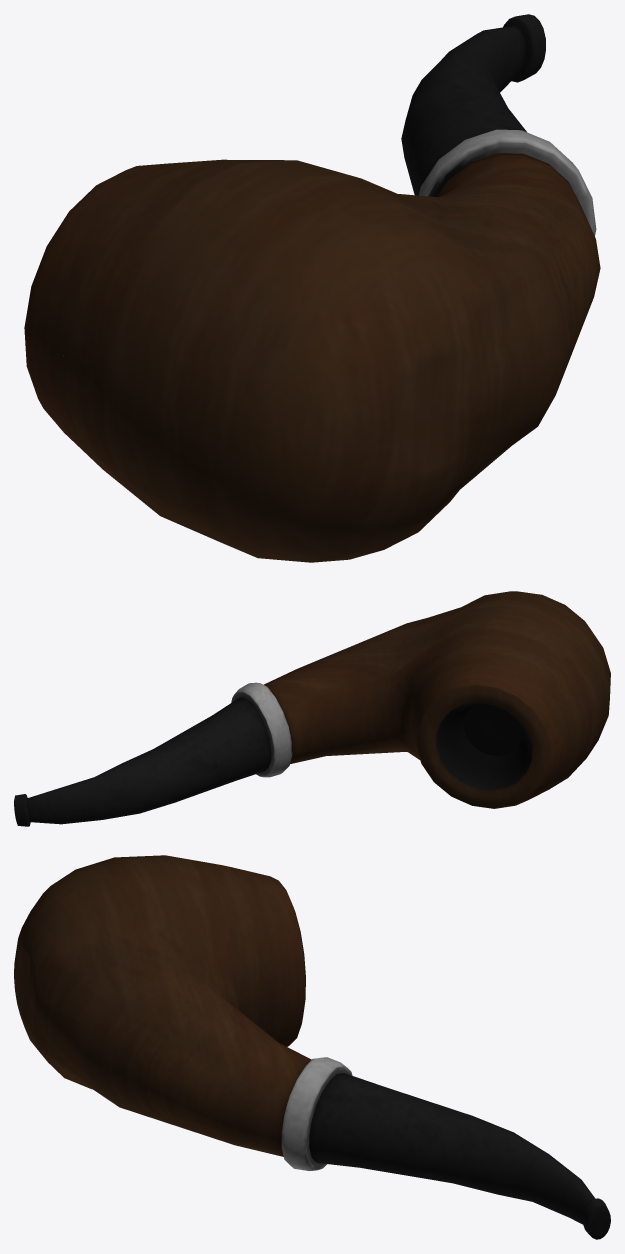
Rendered from SmokingPipe.glb.
3 renders of one model, top to bottom at view 1: azimuth 30°, elevation 25°; view 2: azimuth 150°, elevation 25°; view 3: azimuth 270°, elevation 25°, orthographic. The views are drawn at different scales.
Visible parts, largest first — view 1: Object_27.055, Object_27.054, Object_27.058, Object_27.071, Object_27.064, Object_27.060, Object_27.068; view 2: Object_27.055, Object_27.058, Object_27.054, Object_27.056, Object_27.057, Object_27.059, Object_27.070, Object_27.060, Object_27.062, Object_27.068; view 3: Object_27.055, Object_27.058, Object_27.054, Object_27.059, Object_27.060, Object_27.071, Object_27.062.
Part boxes in pixels (box(x1,y1,x2,y2)): Object_27.055: box(24, 153, 600, 431); Object_27.054: box(24, 269, 600, 562); Object_27.058: box(401, 26, 526, 195); Object_27.071: box(388, 345, 485, 481); Object_27.064: box(425, 142, 593, 232); Object_27.060: box(419, 129, 596, 231); Object_27.068: box(516, 14, 545, 79); Object_27.055: box(264, 591, 610, 746); Object_27.058: box(27, 698, 270, 813); Object_27.054: box(290, 675, 610, 808); Object_27.056: box(418, 685, 550, 808); Object_27.057: box(436, 702, 532, 791); Object_27.059: box(29, 747, 271, 824); Object_27.070: box(464, 703, 523, 755); Object_27.060: box(233, 682, 291, 748); Object_27.062: box(261, 742, 292, 777); Object_27.068: box(14, 794, 27, 826); Object_27.055: box(16, 855, 311, 1129); Object_27.058: box(309, 1073, 595, 1214); Object_27.054: box(21, 1004, 304, 1156); Object_27.059: box(309, 1135, 583, 1224); Object_27.060: box(281, 1057, 349, 1137); Object_27.071: box(14, 943, 38, 1029); Object_27.062: box(281, 1133, 321, 1170).
Bounding box in the file's own units: 1.56 × 0.6654 × 1.66.
1 material, 1 textured.
